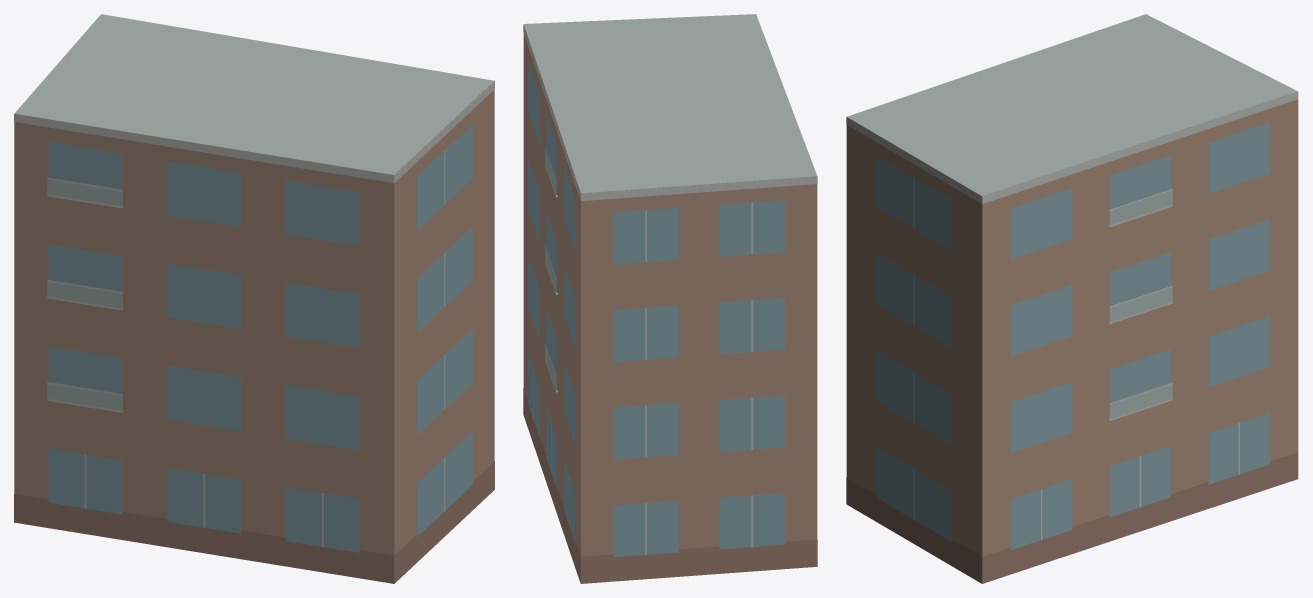
The model's file is survey-upis-32642995.glb.
3 renders of one model, left to right at view 1: azimuth 30°, elevation 25°; view 2: azimuth 150°, elevation 25°; view 3: azimuth 270°, elevation 25°, orthographic. The views are drawn at different scales.
Parts seen in each view (by area): view 1: survey-upis-32642995.tmp; view 2: survey-upis-32642995.tmp; view 3: survey-upis-32642995.tmp.
Boxes of the visible parts, box(x1,y1,x2,y2) form: survey-upis-32642995.tmp: box(14, 14, 494, 583); survey-upis-32642995.tmp: box(523, 14, 817, 583); survey-upis-32642995.tmp: box(846, 14, 1298, 583).
Bounding box in the file's own units: 12.32 × 12.2 × 12.9.
